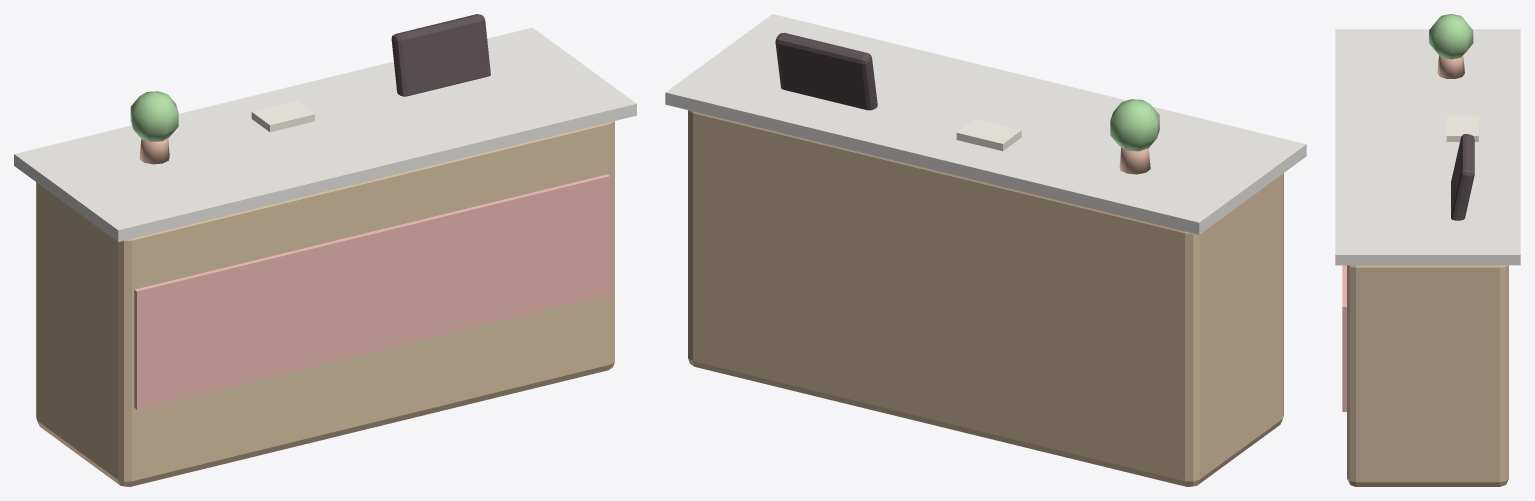
The model's file is recepcao.glb.
3 renders of one model, left to right at view 1: azimuth 30°, elevation 25°; view 2: azimuth 150°, elevation 25°; view 3: azimuth 270°, elevation 25°, orthographic. The views are drawn at different scales.
Visible parts, largest first — view 1: recepcao; view 2: recepcao; view 3: recepcao.
Part boxes in pixels (x1=…): recepcao: x1=14, y1=14, x2=636, y2=486; recepcao: x1=665, y1=14, x2=1306, y2=486; recepcao: x1=1335, y1=14, x2=1520, y2=486.
Bounding box in the file's own units: 2.3 × 1.42 × 0.8.
